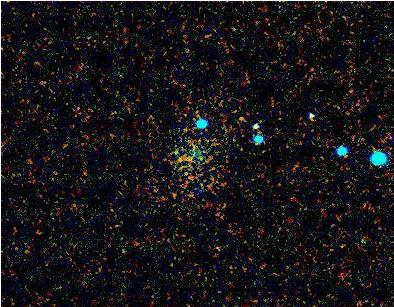star: (226, 101, 256, 131)
